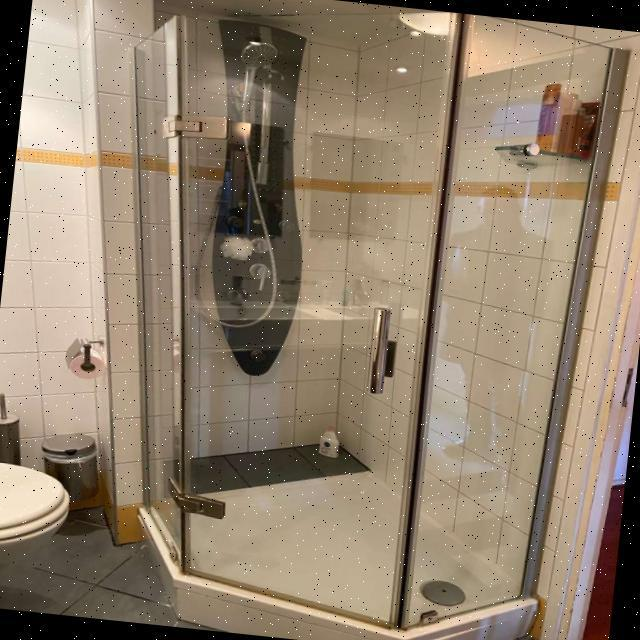douche: (68, 0, 633, 640), (0, 459, 78, 606)
